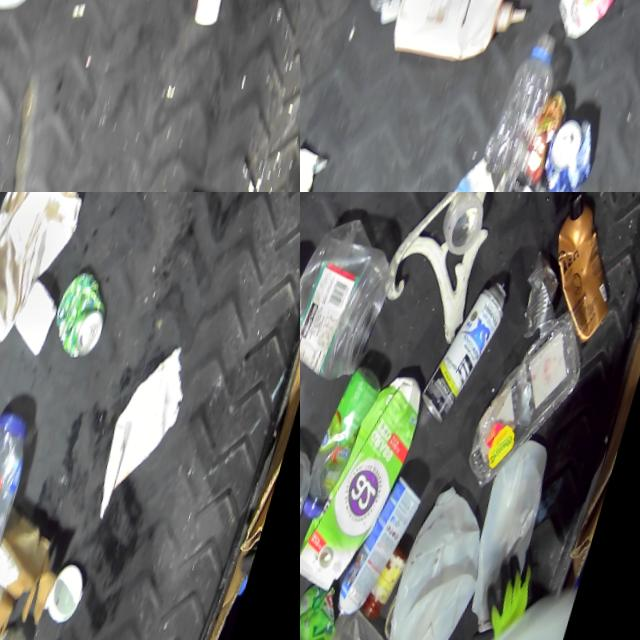can: (422, 273, 515, 431), (48, 264, 120, 364), (533, 103, 608, 192), (515, 253, 566, 339), (543, 0, 631, 45), (0, 617, 44, 640)
milk_jug: (379, 481, 501, 640), (463, 438, 557, 637)
non_white_jug: (309, 374, 432, 594)
plastic_bottle: (440, 16, 571, 192)
